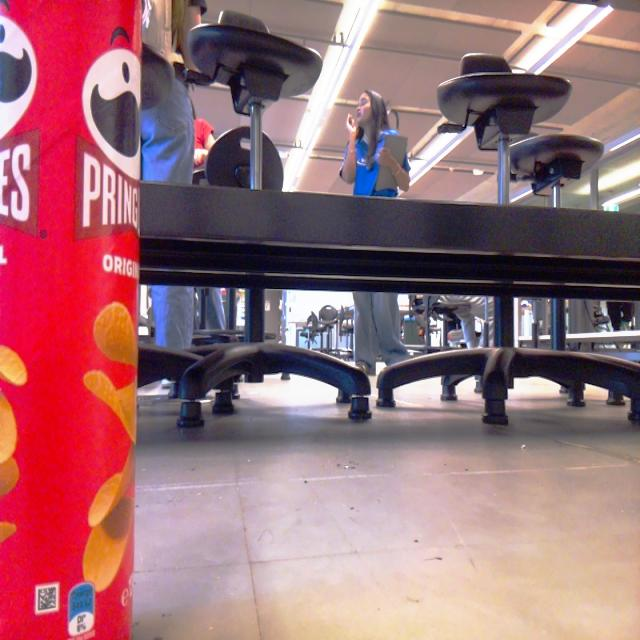redpringles: (0, 0, 172, 640)
